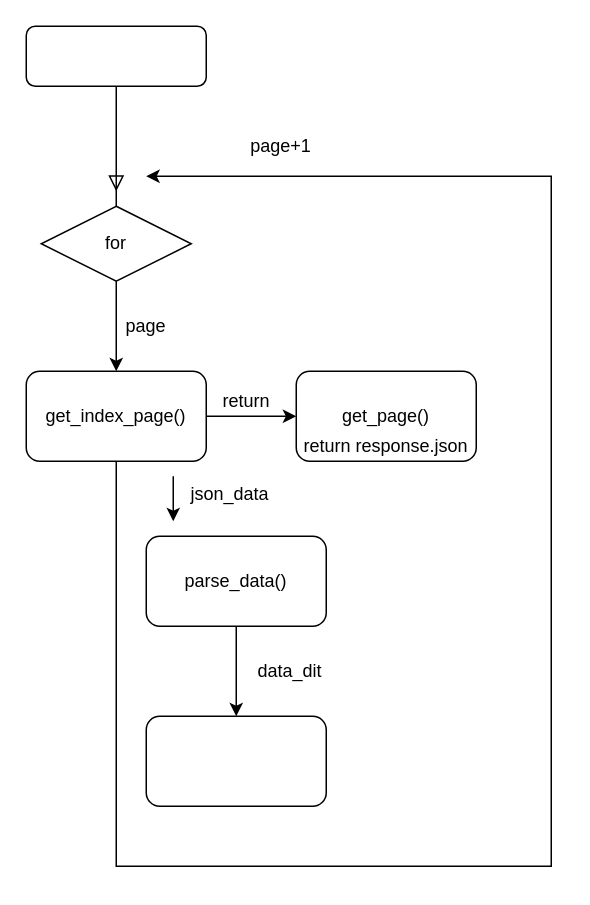
Some shapes in this 590 by 905 pixel diagram are drawn without their labels. The centre of each missing label's shape, as x and y in pixels:
"main()" goes at point 115,55.
"save()" goes at point 235,760.
